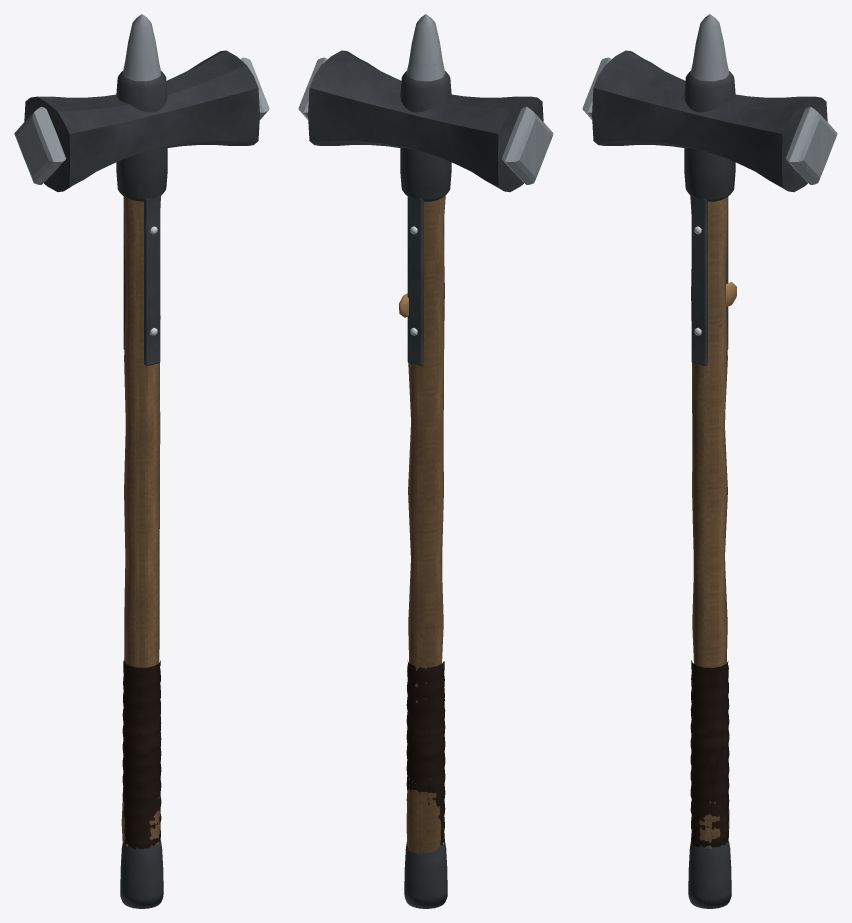
Rendered from warhammer.lod1.glb.
3 views of the same model, side by side, from view 1: azimuth 30°, elevation 25°; view 2: azimuth 150°, elevation 25°; view 3: azimuth 330°, elevation 25° (orthographic).
Visible parts, largest first — view 1: darksteel / oil-blackened fittings, wood / oiled hardwood, leather / oiled leather wrap, steel / forged blade steel; view 2: darksteel / oil-blackened fittings, wood / oiled hardwood, leather / oiled leather wrap, steel / forged blade steel; view 3: darksteel / oil-blackened fittings, wood / oiled hardwood, leather / oiled leather wrap, steel / forged blade steel.
Part boxes in pixels (box(x1,y1,x2,y2)): darksteel / oil-blackened fittings: box(24, 50, 259, 908); wood / oiled hardwood: box(121, 196, 160, 846); leather / oiled leather wrap: box(122, 660, 161, 849); steel / forged blade steel: box(14, 14, 269, 184); darksteel / oil-blackened fittings: box(308, 50, 543, 908); wood / oiled hardwood: box(406, 195, 445, 853); leather / oiled leather wrap: box(406, 661, 445, 845); steel / forged blade steel: box(298, 14, 553, 184); darksteel / oil-blackened fittings: box(592, 50, 827, 908); wood / oiled hardwood: box(690, 195, 729, 848); leather / oiled leather wrap: box(690, 660, 729, 847); steel / forged blade steel: box(582, 14, 837, 184).
Size of the model in its own units: 0.232 by 0.893 by 0.084.
Materials: 7 (5 with a texture image).
